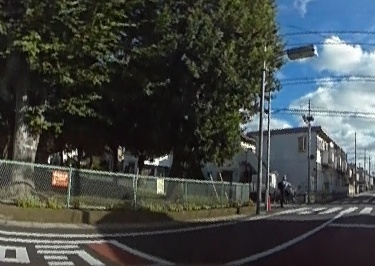person: (277, 172, 288, 206)
